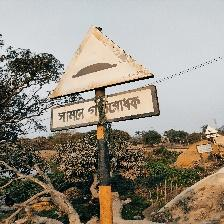Speed-breaker: (49, 24, 159, 130)
